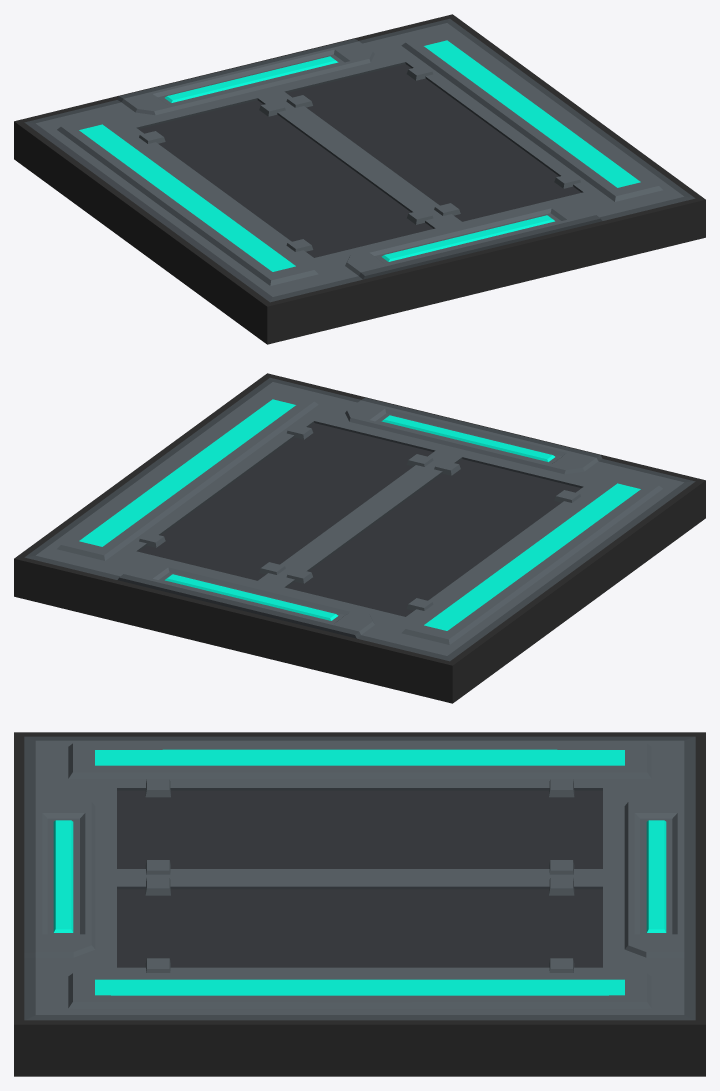
The model's file is SM_Bld_Floor_Small_07.fbx.
3 renders of one model, top to bottom at view 1: azimuth 30°, elevation 25°; view 2: azimuth 150°, elevation 25°; view 3: azimuth 270°, elevation 25°, orthographic. The views are drawn at different scales.
Visible parts, largest first — view 1: SM_Bld_Floor_Small_07; view 2: SM_Bld_Floor_Small_07; view 3: SM_Bld_Floor_Small_07.
Part boxes in pixels (x1,y1,x2,y2): SM_Bld_Floor_Small_07: (14, 14, 705, 344); SM_Bld_Floor_Small_07: (14, 373, 705, 703); SM_Bld_Floor_Small_07: (14, 732, 705, 1076).
Bounding box in the file's own units: 250 × 23.02 × 250.
Materials: 1 (1 with a texture image).
